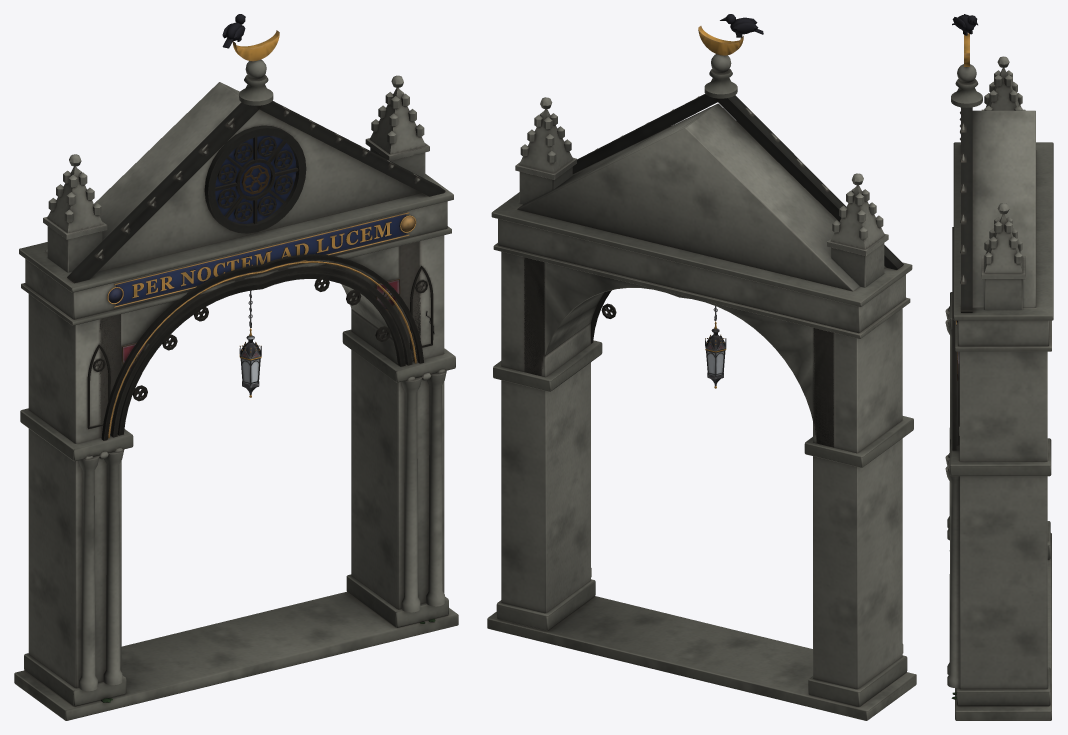
Rendered from EntranceMoonPortico.fbx.
3 renders of one model, left to right at view 1: azimuth 30°, elevation 25°; view 2: azimuth 150°, elevation 25°; view 3: azimuth 270°, elevation 25°, orthographic. The views are drawn at different scales.
Parts seen in each view (by area): view 1: EntranceMoonPortico_Main, EntranceMoonPortico_Gable, EntranceMoonPortico_MoonGlow; view 2: EntranceMoonPortico_Main, EntranceMoonPortico_Gable; view 3: EntranceMoonPortico_Main, EntranceMoonPortico_Gable.
Part boxes in pixels (x1,y1,x2,y2): EntranceMoonPortico_Main: (14,75,458,720); EntranceMoonPortico_Gable: (19,14,453,325); EntranceMoonPortico_MoonGlow: (215,135,296,223); EntranceMoonPortico_Main: (487,97,916,720); EntranceMoonPortico_Gable: (491,14,912,338); EntranceMoonPortico_Main: (945,56,1051,720); EntranceMoonPortico_Gable: (951,14,1053,351).
Size of the model in its own units: 1440 by 2293 by 368.
